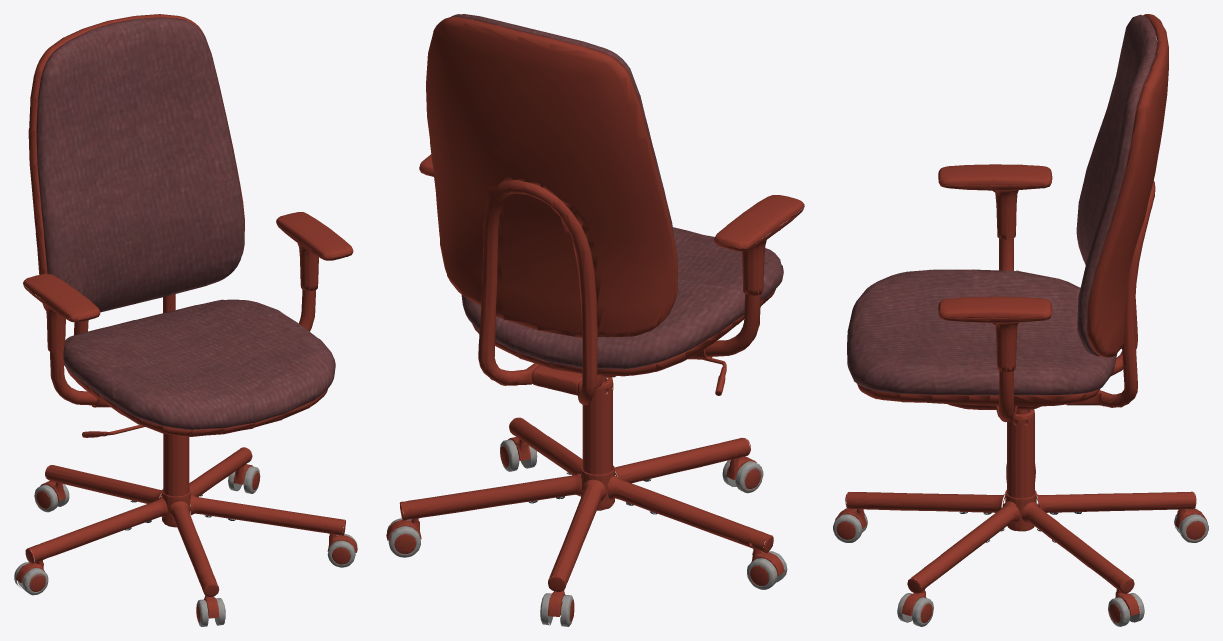
The model's file is 02 - SMÖRKULL Office chair with armrests - Gräsnäs red.glb.
The picture shows the model from 3 angles, left to right: view 1: azimuth 30°, elevation 25°; view 2: azimuth 150°, elevation 25°; view 3: azimuth 270°, elevation 25°; orthographic projection. The views are drawn at different scales.
Visible parts, largest first — view 1: chair[chair].001; view 2: chair[chair].001; view 3: chair[chair].001.
Boxes of the visible parts, left/top/right/bottom form: chair[chair].001: left=14, top=14, right=357, bottom=626; chair[chair].001: left=386, top=14, right=804, bottom=626; chair[chair].001: left=833, top=14, right=1208, bottom=626.
Size of the model in its own units: 0.6695 by 1.04 by 0.6776.
1 material, 1 textured.
